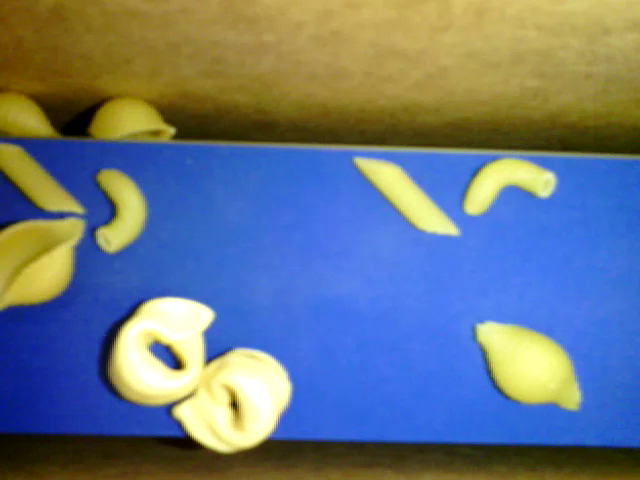elbow: (459, 157, 556, 224), (91, 163, 151, 261)
penne: (353, 155, 465, 239), (1, 139, 85, 215)
shell: (475, 319, 582, 412), (1, 216, 82, 312), (89, 96, 180, 142), (1, 87, 63, 139)
tortellini: (168, 345, 296, 453), (102, 295, 220, 406)
